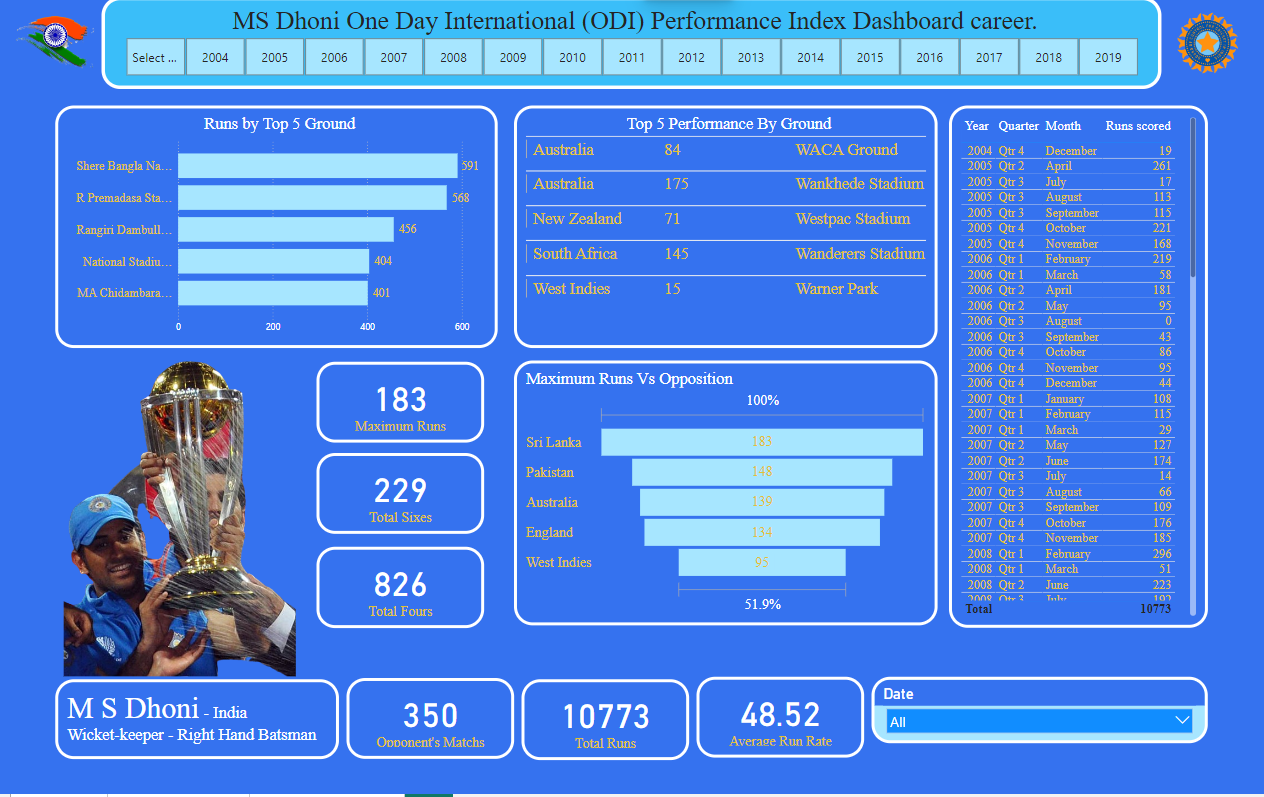

This screenshot's page, from the dashboard's own definition file:
{"tool":"powerbi","page":{"name":"Report","canvas":[2040,1300],"ordinal":0},"visuals":[{"type":"slicer","title":"MS Dhoni One Day International (ODI) Performance Index Dashboard career.","fields":{"Values":["MS_Dhoni_ODI_record.Date.Variation.Date Hierarchy.Year"]},"box":[165.3,14.1,1709.7,149.2],"z":0},{"type":"tableEx","fields":{"Values":["MS_Dhoni_ODI_record.Date.Variation.Date Hierarchy.Year","MS_Dhoni_ODI_record.Date.Variation.Date Hierarchy.Quarter","MS_Dhoni_ODI_record.Date.Variation.Date Hierarchy.Month","Sum(MS_Dhoni_ODI_record.Runs_scored)"]},"box":[1532.3,189.5,417.3,842.7],"z":1000},{"type":"funnel","title":"Maximum Runs Vs Opposition","fields":{"Category":["MS_Dhoni_ODI_record.Opposition"],"Y":["Max(MS_Dhoni_ODI_record.Runs_scored)"]},"box":[830.6,600.8,683.5,427.4],"z":2000},{"type":"card","fields":{"Values":["Count(MS_Dhoni_ODI_record.Match)"]},"box":[560.5,1113.2,270,130],"z":3000},{"type":"card","fields":{"Values":["Sum(MS_Dhoni_ODI_record.Runs_scored)"]},"box":[843,1114,270,130],"z":4000},{"type":"card","fields":{"Values":["Max(MS_Dhoni_ODI_record.Runs_scored)"]},"box":[512,602.1,270,130],"z":5000},{"type":"card","fields":{"Values":["Avg(MS_Dhoni_ODI_record.Avg)"]},"box":[1125.5,1110,270,130],"z":6000},{"type":"card","fields":{"Values":["Sum(MS_Dhoni_ODI_record.Sixes)"]},"box":[512,750.1,270,130],"z":7000},{"type":"card","fields":{"Values":["Sum(MS_Dhoni_ODI_record.Fours)"]},"box":[512.1,901.2,270.2,131],"z":8000},{"type":"multiRowCard","title":"Top 5 Performance By Ground","fields":{"Values":["MS_Dhoni_ODI_record.Opposition","Sum(MS_Dhoni_ODI_record.Runs_scored)","MS_Dhoni_ODI_record.Ground"]},"box":[830.6,189.5,683.5,391.1],"z":9000},{"type":"slicer","title":"Date","fields":{"Values":["MS_Dhoni_ODI_record.Date.Variation.Date Hierarchy.Year"]},"box":[1407.3,1110.9,542.3,106.9],"z":10000},{"type":"image","box":[16.1,14.1,149.2,149.2],"z":11000},{"type":"image","box":[1875,14.1,149.2,149.2],"z":12000},{"type":"image","box":[90.7,580.6,401.2,534.3],"z":13000},{"type":"textbox","box":[90.7,1114.9,457.7,129],"z":14000},{"type":"barChart","title":"Runs by Top 5 Ground","fields":{"Category":["MS_Dhoni_ODI_record.Ground"],"Y":["Sum(MS_Dhoni_ODI_record.Runs_scored)"]},"box":[90.7,189.5,713.7,391.1],"z":15000}]}

Visuals, with their boxes in screenshot pixels (x1, y1, x2, y2), scaled from the page's 2040x1300 canvas onto the 1264x797 screenshot:
"MS Dhoni One Day International (ODI) Performance Index Dashboard career." slicer: (102,9,1162,100)
tableEx - MS_Dhoni_ODI_record.Date.Variation.Date Hierarchy.Year x MS_Dhoni_ODI_record.Date.Variation.Date Hierarchy.Quarter: (949,116,1208,633)
"Maximum Runs Vs Opposition" funnel: (515,368,938,630)
card - Count(MS_Dhoni_ODI_record.Match): (347,682,515,762)
card - Sum(MS_Dhoni_ODI_record.Runs_scored): (522,683,690,763)
card - Max(MS_Dhoni_ODI_record.Runs_scored): (317,369,485,449)
card - Avg(MS_Dhoni_ODI_record.Avg): (697,681,865,760)
card - Sum(MS_Dhoni_ODI_record.Sixes): (317,460,485,540)
card - Sum(MS_Dhoni_ODI_record.Fours): (317,553,485,633)
"Top 5 Performance By Ground" multiRowCard: (515,116,938,356)
"Date" slicer: (872,681,1208,747)
image: (10,9,102,100)
image: (1162,9,1254,100)
image: (56,356,305,684)
textbox: (56,684,340,763)
"Runs by Top 5 Ground" barChart: (56,116,498,356)
